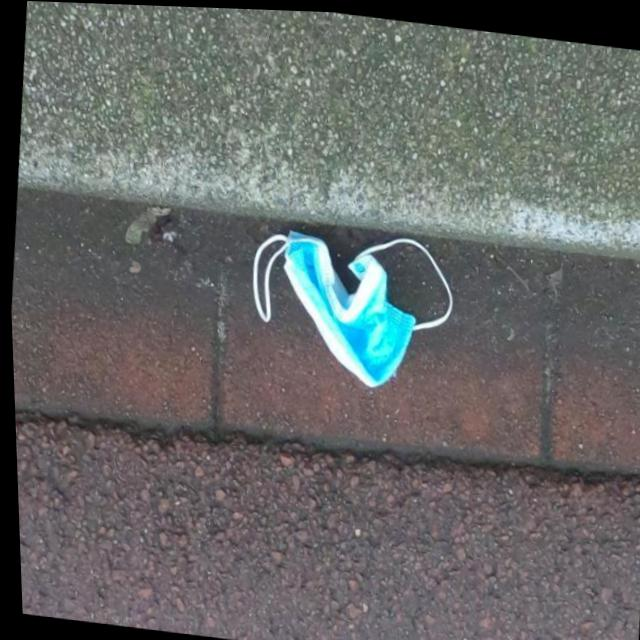Mask: (235, 213, 460, 398)
